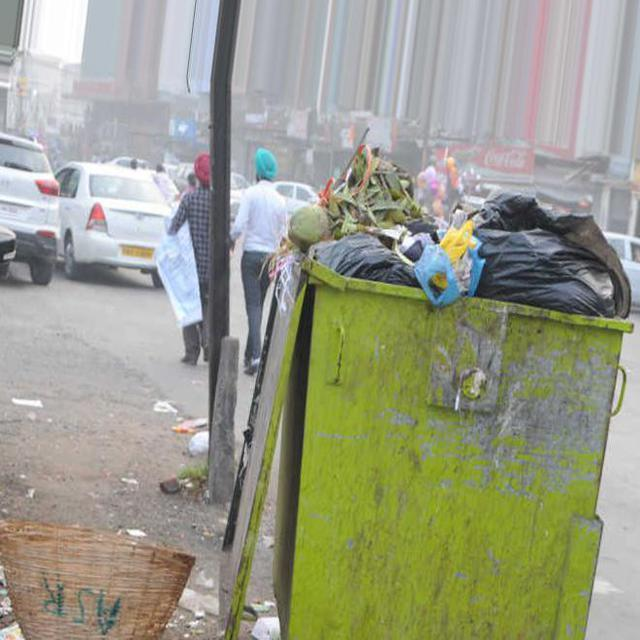garbage: (286, 151, 639, 321), (3, 509, 199, 639), (152, 391, 213, 457), (8, 388, 47, 421)
